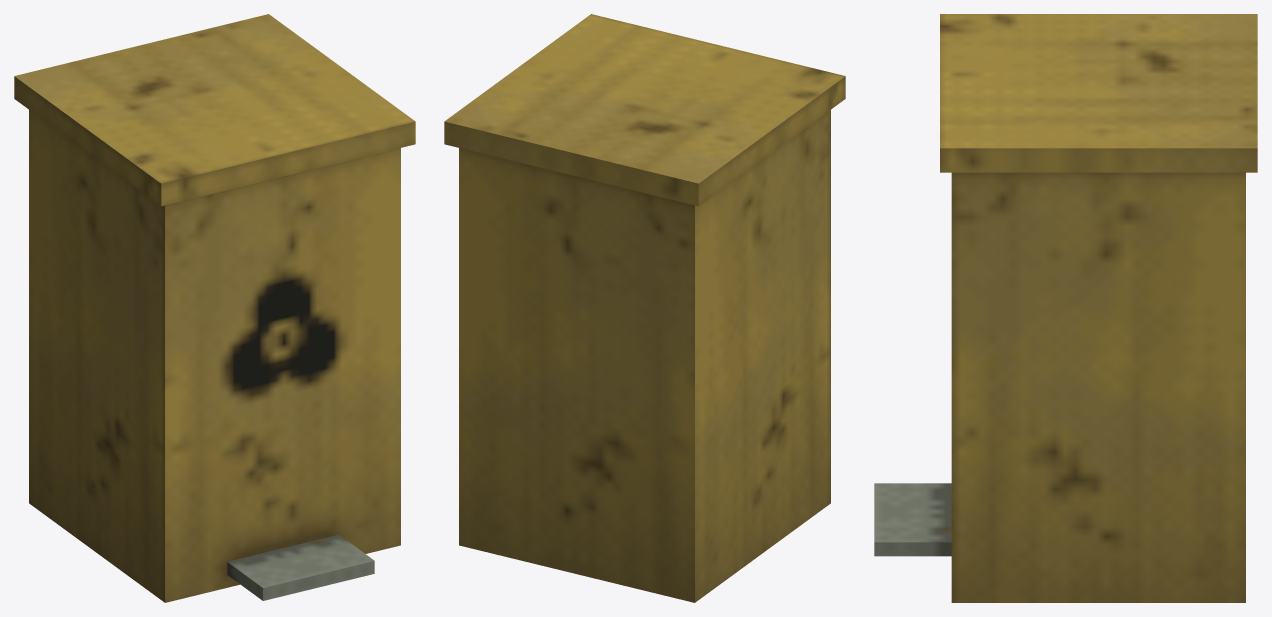
File: Bin_Biohazard_01.obj
3 renders of one model, left to right at view 1: azimuth 30°, elevation 25°; view 2: azimuth 150°, elevation 25°; view 3: azimuth 270°, elevation 25°, orthographic. The views are drawn at different scales.
Visible parts, largest first — view 1: Bin_Biohazard_01; view 2: Bin_Biohazard_01; view 3: Bin_Biohazard_01.
Part boxes in pixels (bbox=[...]): Bin_Biohazard_01: bbox=[14, 14, 415, 602]; Bin_Biohazard_01: bbox=[444, 14, 845, 602]; Bin_Biohazard_01: bbox=[874, 14, 1257, 602].
Size of the model in its own units: 0.41 by 0.655 by 0.495.
1 material, 1 textured.
